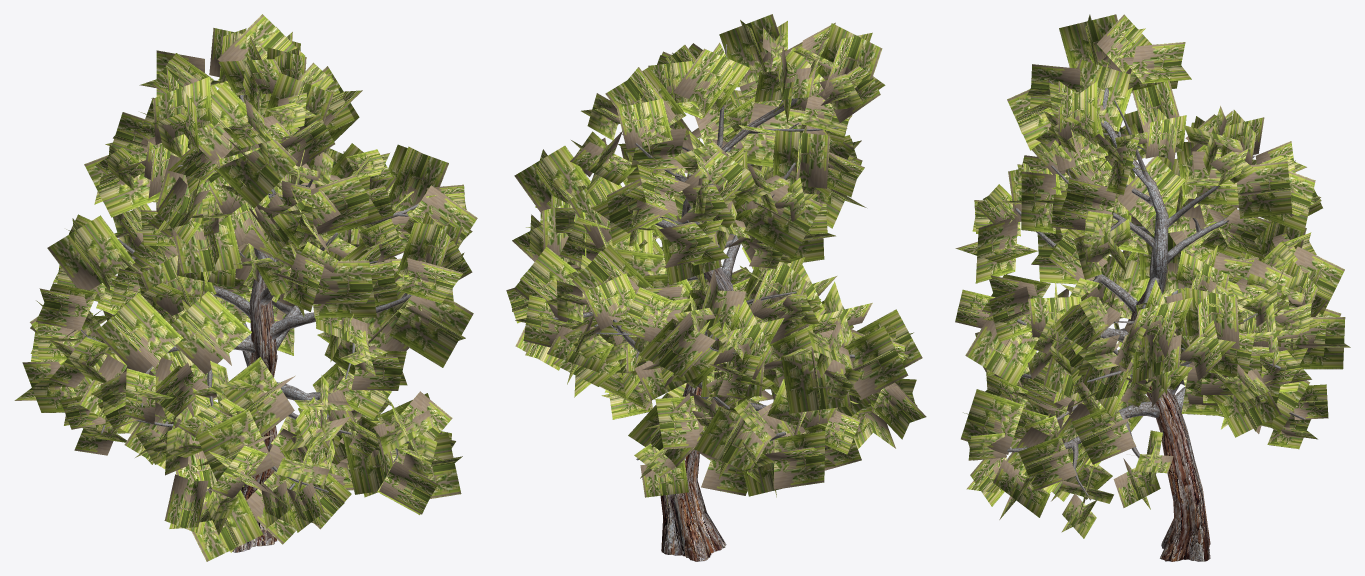
The model's file is tree.fbx.
The picture shows the model from 3 angles, left to right: view 1: azimuth 30°, elevation 25°; view 2: azimuth 150°, elevation 25°; view 3: azimuth 270°, elevation 25°; orthographic projection. The views are drawn at different scales.
Visible parts, largest first — view 1: Tree_1, Tree_0; view 2: Tree_1, Tree_0; view 3: Tree_1, Tree_0.
Boxes of the visible parts, bbox=[...] form: Tree_1: bbox=[14, 14, 477, 561]; Tree_0: bbox=[81, 74, 418, 552]; Tree_1: bbox=[506, 14, 926, 507]; Tree_0: bbox=[553, 44, 855, 561]; Tree_1: bbox=[955, 14, 1350, 538]; Tree_0: bbox=[1007, 66, 1304, 561].
Bounding box in the file's own units: 215 × 273 × 201.
Materials: 2 (2 with a texture image).
